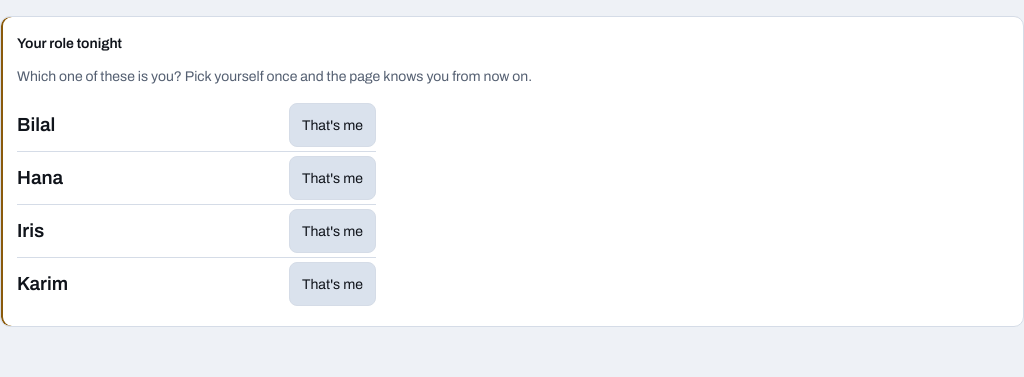
Test: signed in with no player row: picking yourself, once › prints the route's sentence when somebody is already linked to that player
The image size is (1024, 377).
Click the button "That's me" in the row of "Bilal".
click(332, 125)  # box [289,103,376,147]
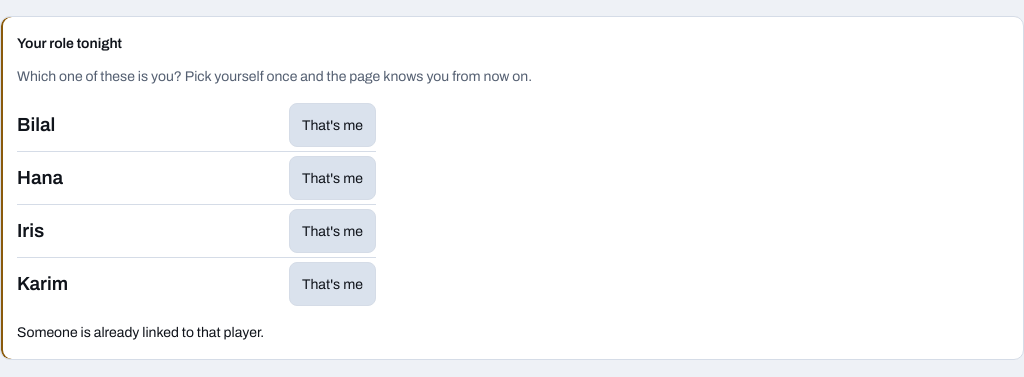
Check: the message reads "Someone is already linked to that player.", box [17,325,264,340]
